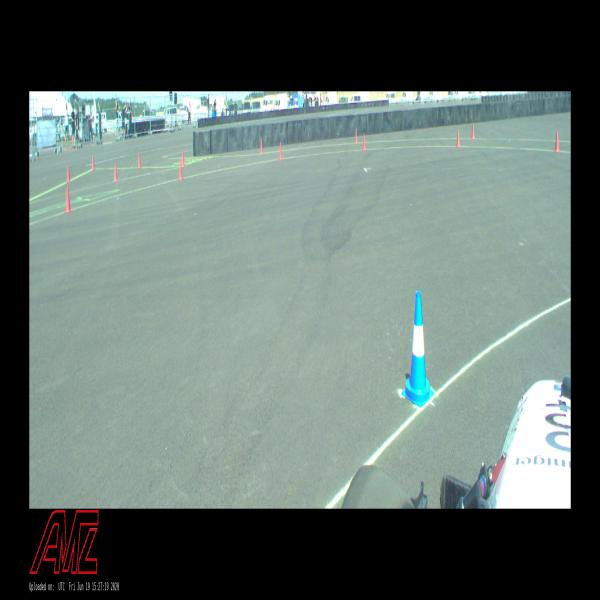blue_cone: (402, 291, 434, 407)
